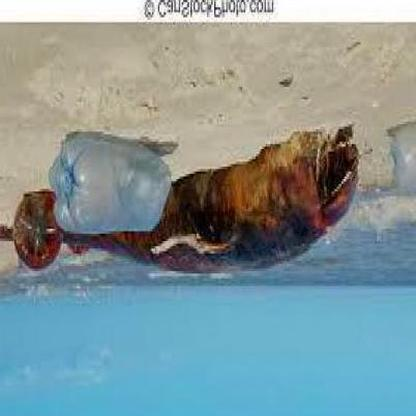plastic bottle: (49, 133, 170, 234)
